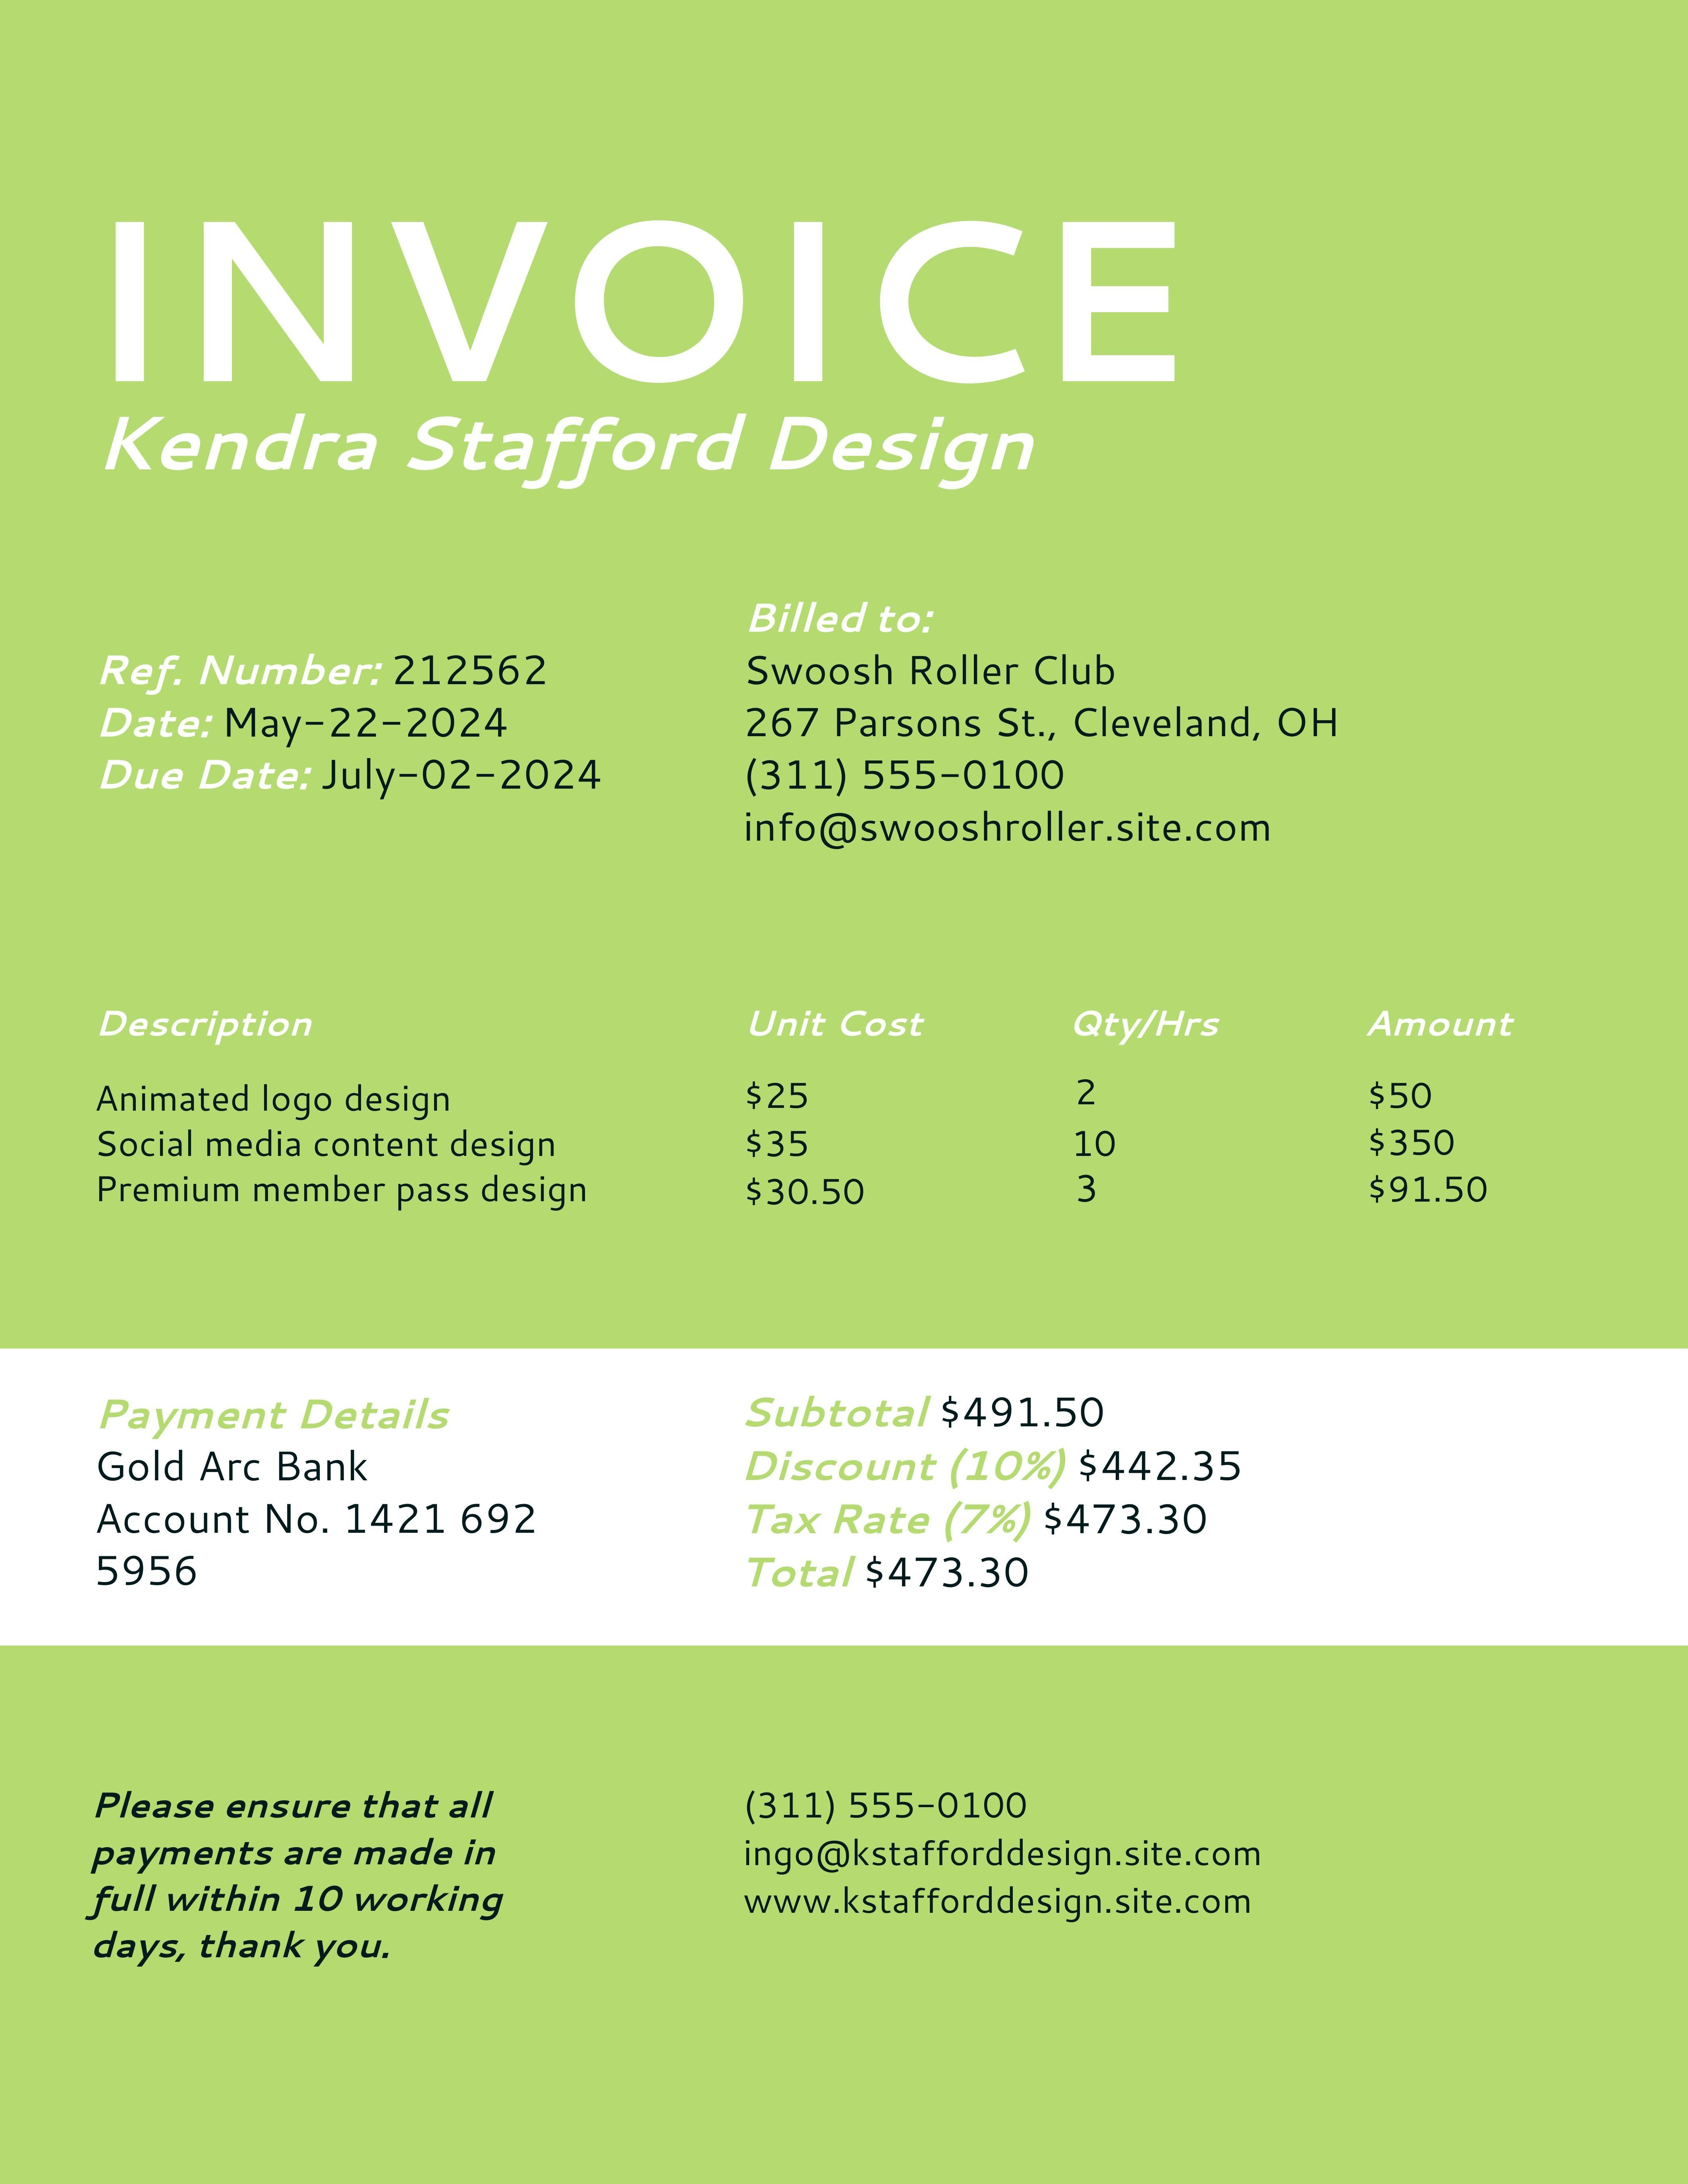ROI: (83, 1000, 1550, 1223), (739, 592, 1374, 862), (734, 1390, 1255, 1608), (76, 1386, 557, 1604), (83, 1780, 596, 1973), (92, 404, 1069, 500), (80, 643, 615, 807)
